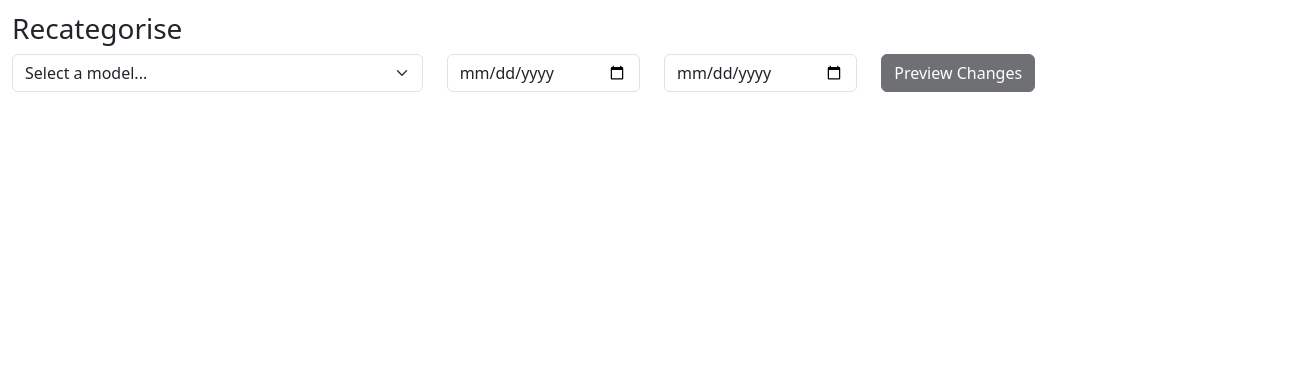
Recategorise › should apply only accepted changes
Select "test-model" in the dropdown at [217, 73], box [12,54,423,92]
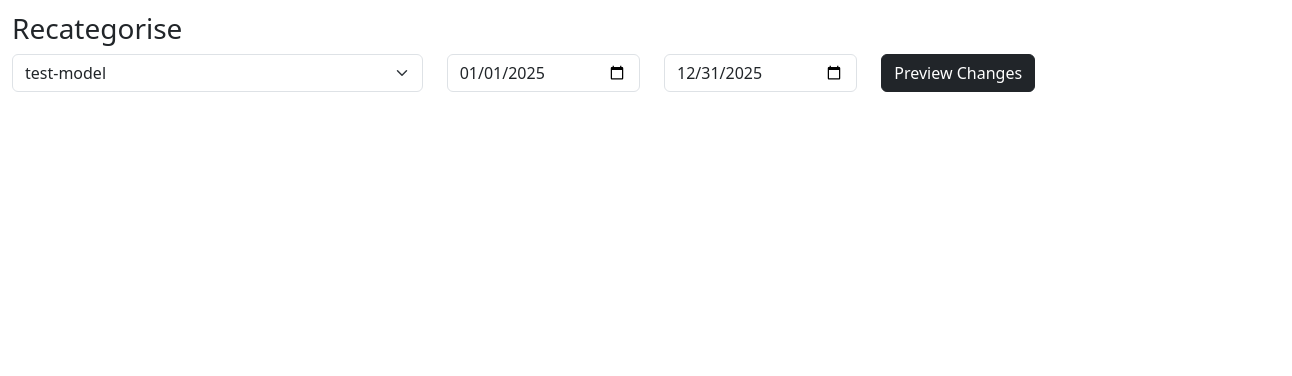
Click the button "Preview Changes" at [958, 73], box [881,54,1035,92]
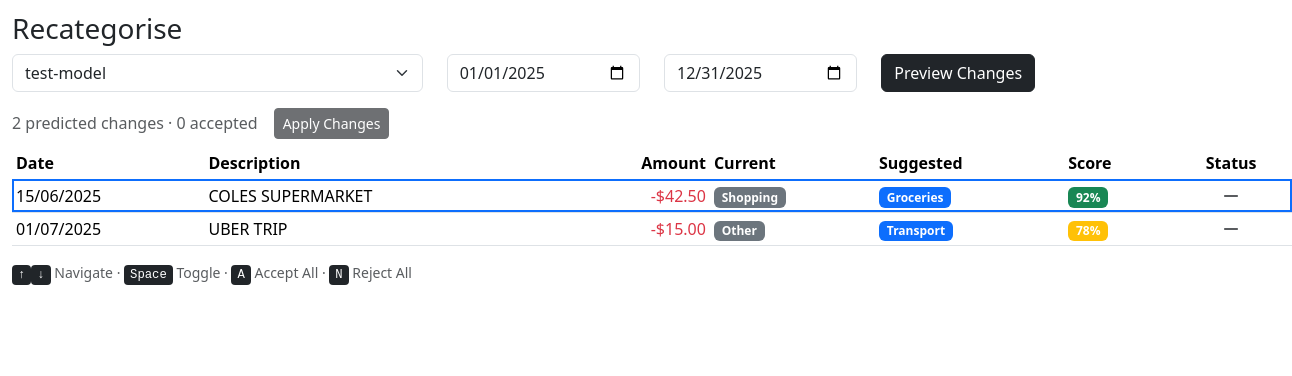
Expected: the text "COLES SUPERMARKET" is shown, [204,179,560,212]
Click the text "COLES SUPERMARKET" at [652, 196], box [12,179,1291,212]
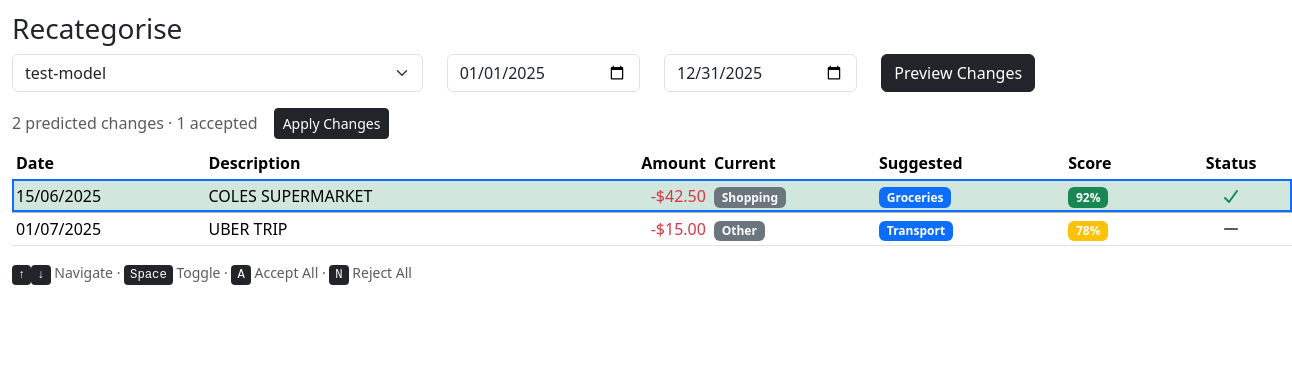
Expected: the text "2 predicted changes · 1 accepted" is shown, [12,111,258,135]
Click the button "Apply Changes" at [332, 123], box [274,108,390,139]
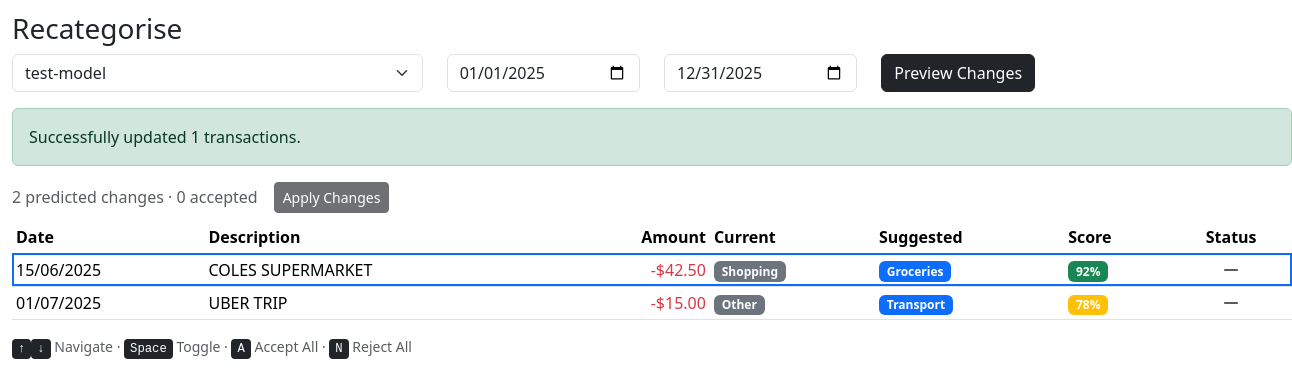
Expected: the text "Successfully updated 1 transactions." is shown, [12,108,1291,166]
